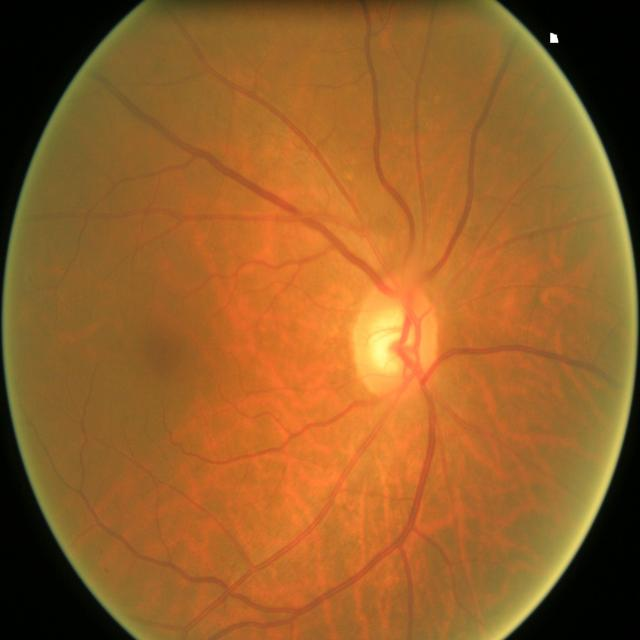OC: (366, 305, 420, 376)
OD: (350, 282, 438, 398)
